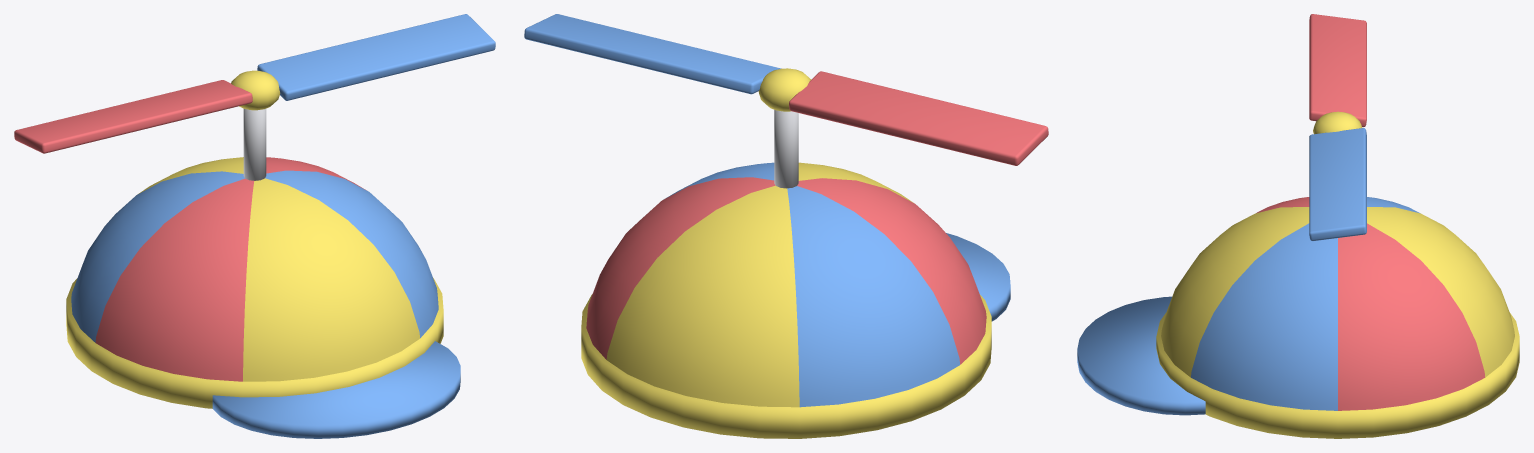
File: ITEM_HeliHat.fbx
3 views of the same model, side by side, from view 1: azimuth 30°, elevation 25°; view 2: azimuth 150°, elevation 25°; view 3: azimuth 270°, elevation 25° (orthographic). The views are drawn at different scales.
Visible parts, largest first — view 1: ITEM_HeliHat, Propeller; view 2: ITEM_HeliHat, Propeller; view 3: ITEM_HeliHat, Propeller.
Boxes of the visible parts, x1,y1,x2,y2 form: ITEM_HeliHat: [66, 108, 460, 438]; Propeller: [14, 14, 495, 153]; ITEM_HeliHat: [581, 110, 1010, 438]; Propeller: [524, 14, 1048, 165]; ITEM_HeliHat: [1077, 197, 1519, 438]; Propeller: [1309, 14, 1366, 240].
Bounding box in the file's own units: 28 × 15.2 × 24.6.
